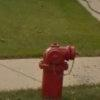Hydrant: (26, 34, 80, 100)
